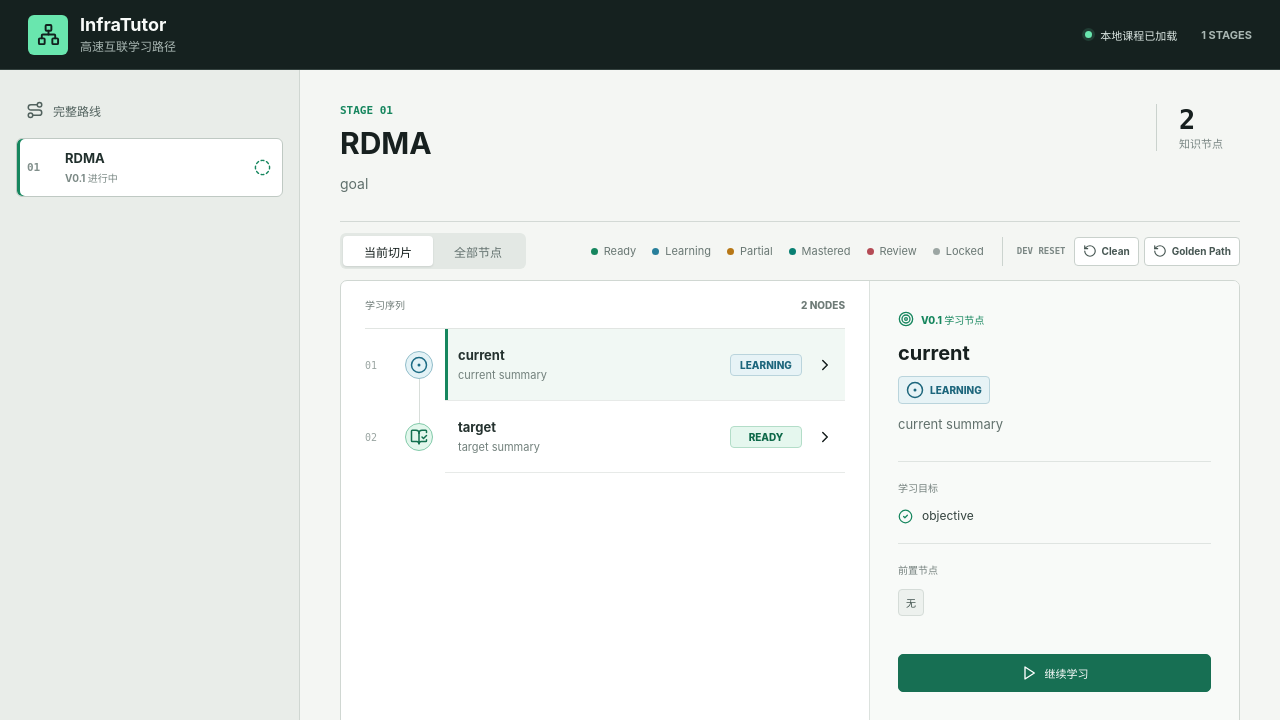
Scenario: Roadmap session actions › requires explicit choice before replacing an active session
Click the button "target target summary READY" at (477, 427), box [445, 401, 845, 473]
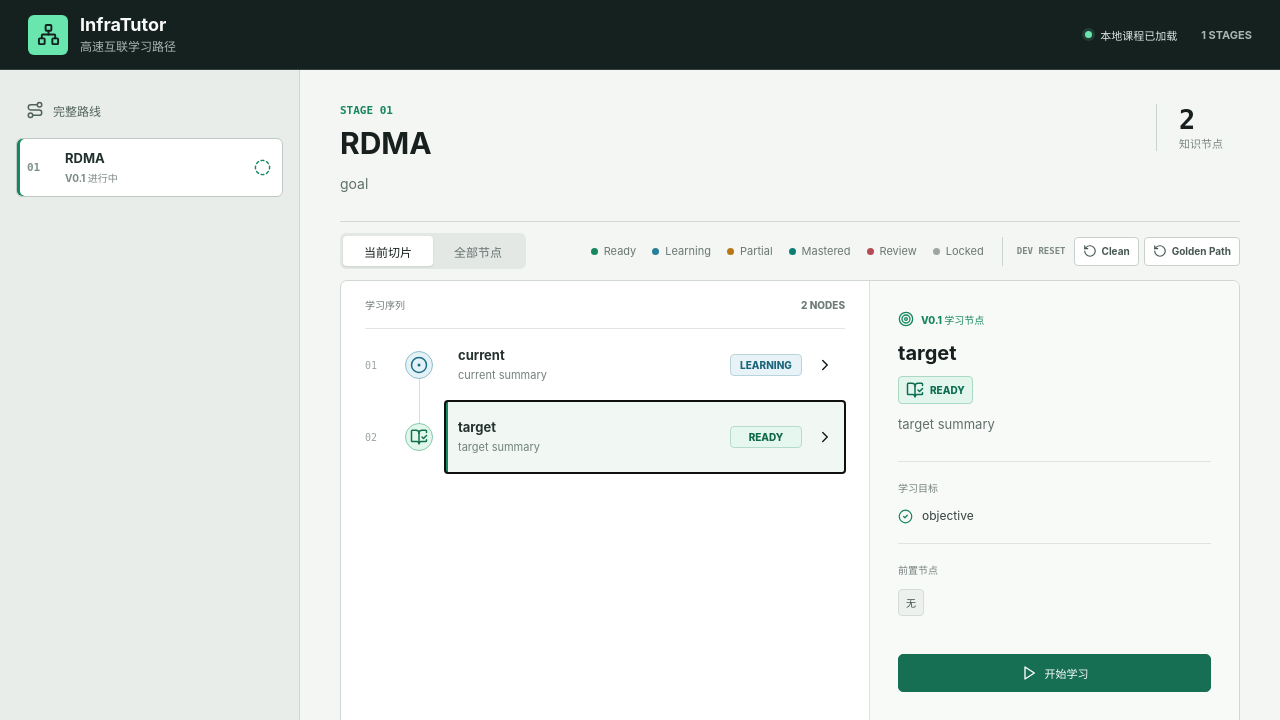
Click the button "开始学习" at (1054, 672), box [898, 654, 1211, 692]
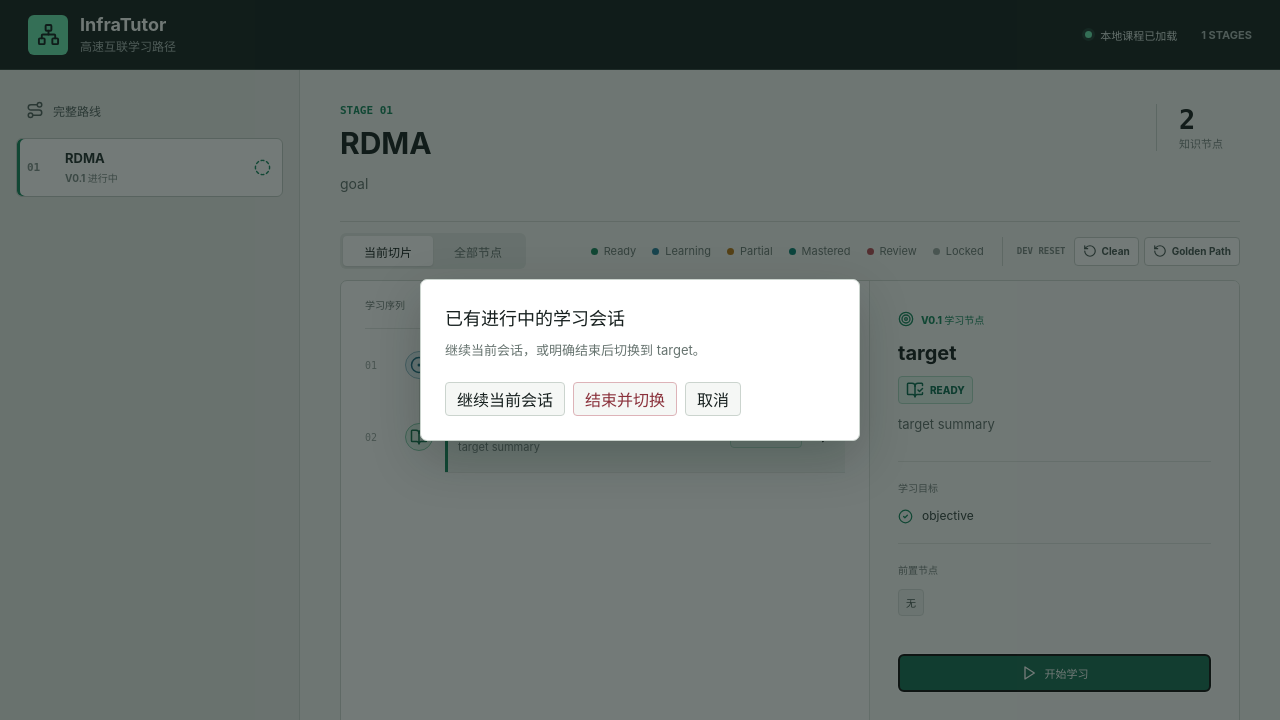
Check: the dialog "已有进行中的学习会话" is shown, box [420, 279, 860, 441]
Check: the button "继续当前会话" is shown, box [445, 382, 565, 416]
Check: the button "结束并切换" is shown, box [573, 382, 677, 416]
